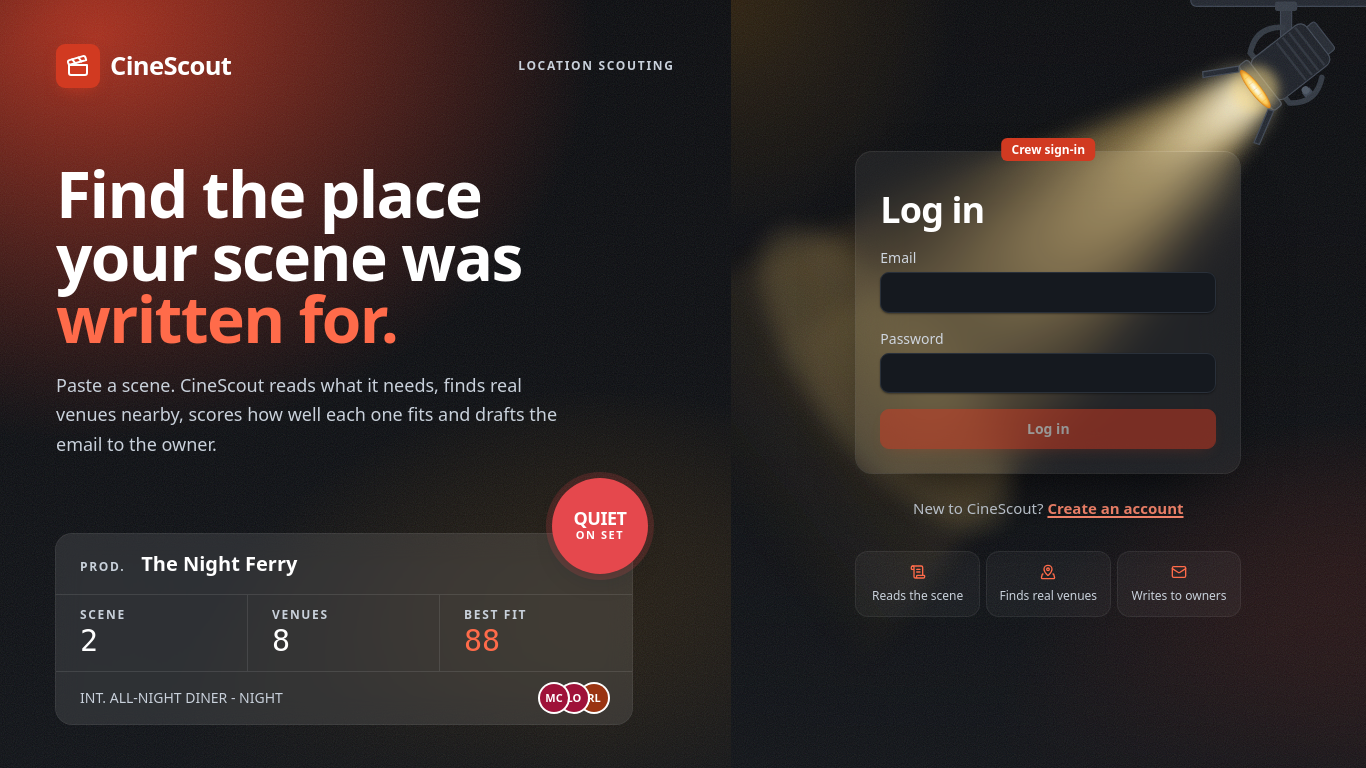
Test case: a scene's locations › show the assessment of each venue in the order the server gives
Type "ada@example.com" into the field labelled "Email" at (1048, 293), box [880,272,1216,313]
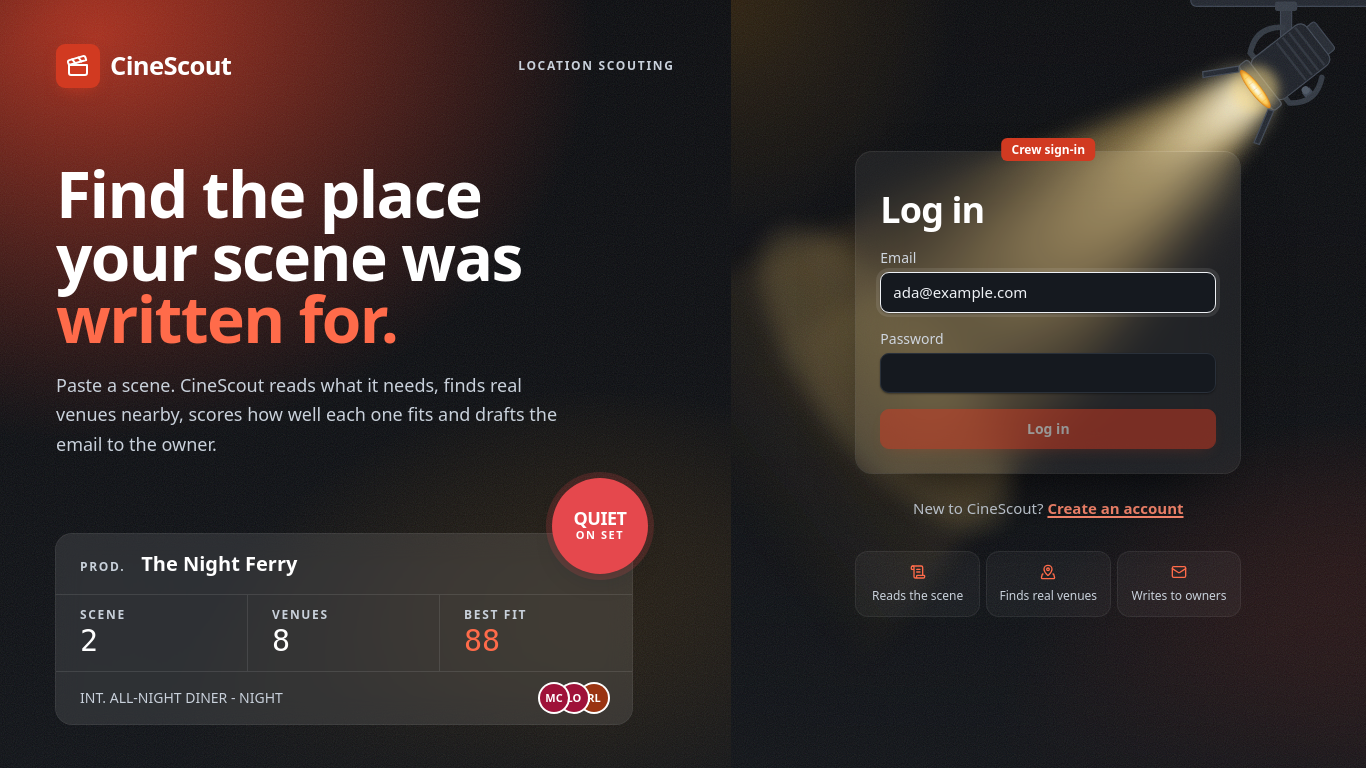
Type "a-long-password" into the password field labelled "Password" at (1048, 373), box [880,353,1216,393]
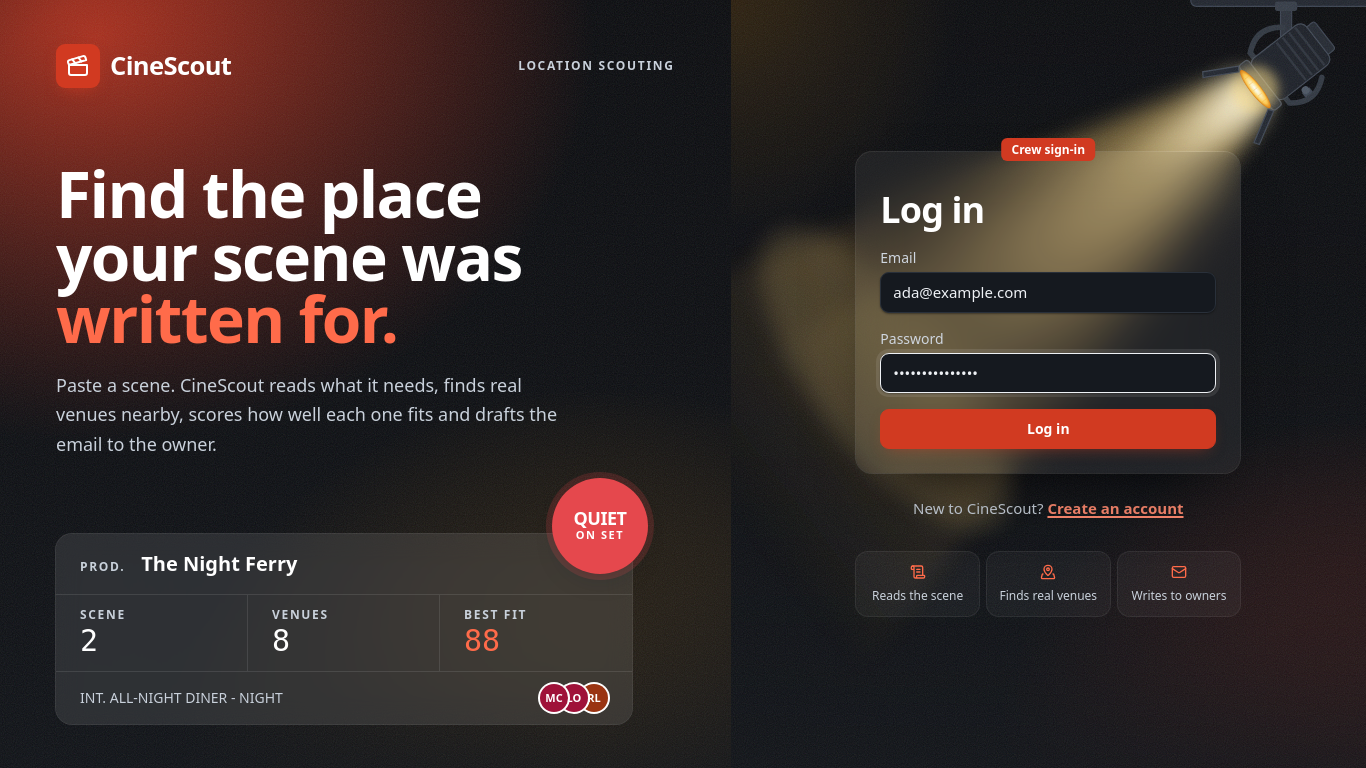
Click the button "Log in" at (1048, 429), box [880,409,1216,449]
(page scrolled)
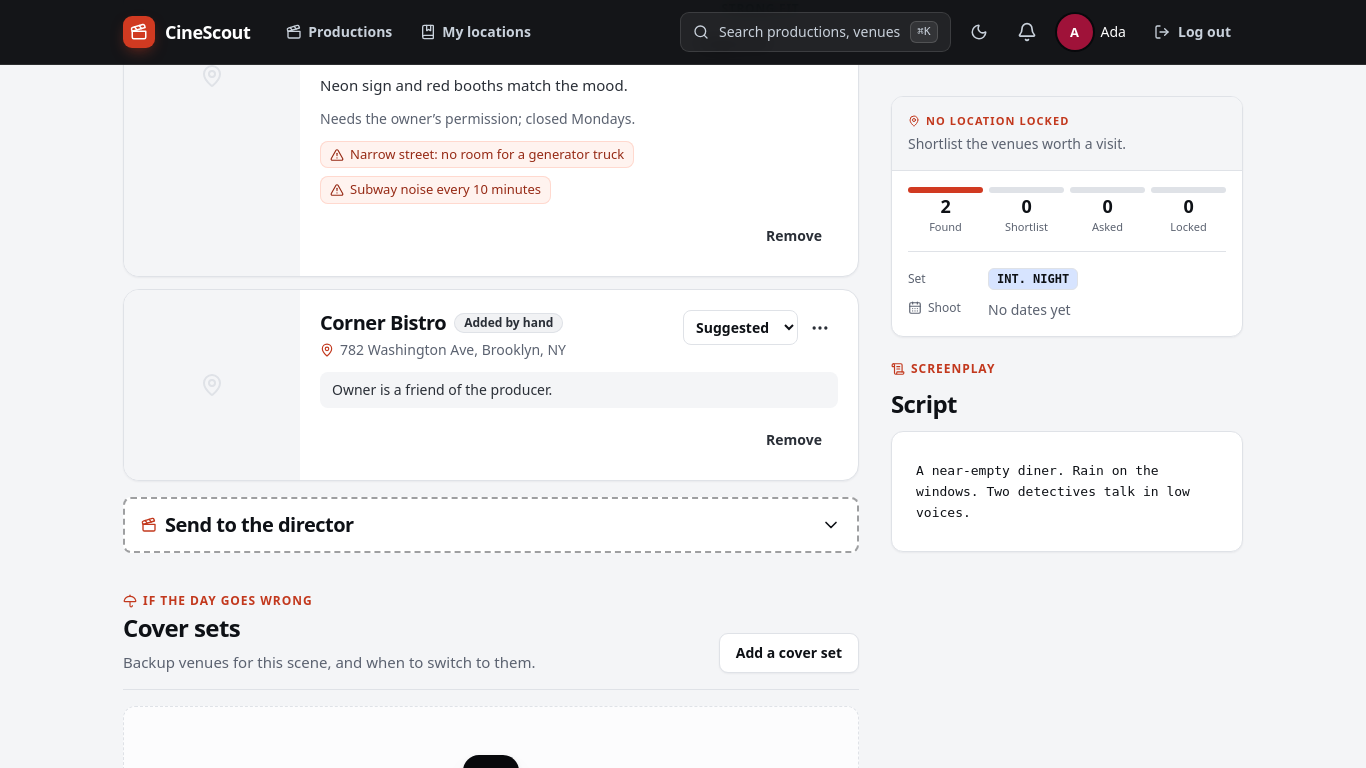
Expected: the element named "Tom’s Diner" shows "Neon sign and red booths match the mood.", [320,74,628,94]
Expected: the element named "Tom’s Diner" shows "Needs the owner’s permission; closed Mondays.", [320,109,635,128]
Expected: the list items read "Narrow street: no room for a generator truck", "Subway noise every 10 minutes", in this order, [320,141,634,168]; [320,176,551,204]
